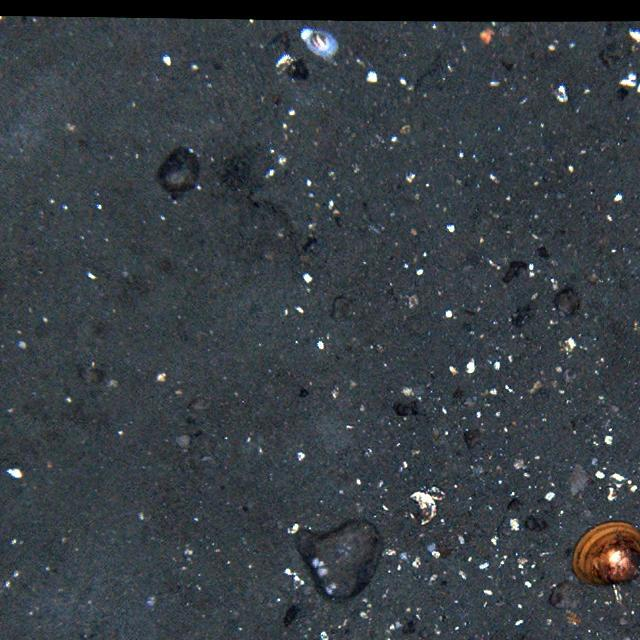whelk: (312, 32, 329, 52)
